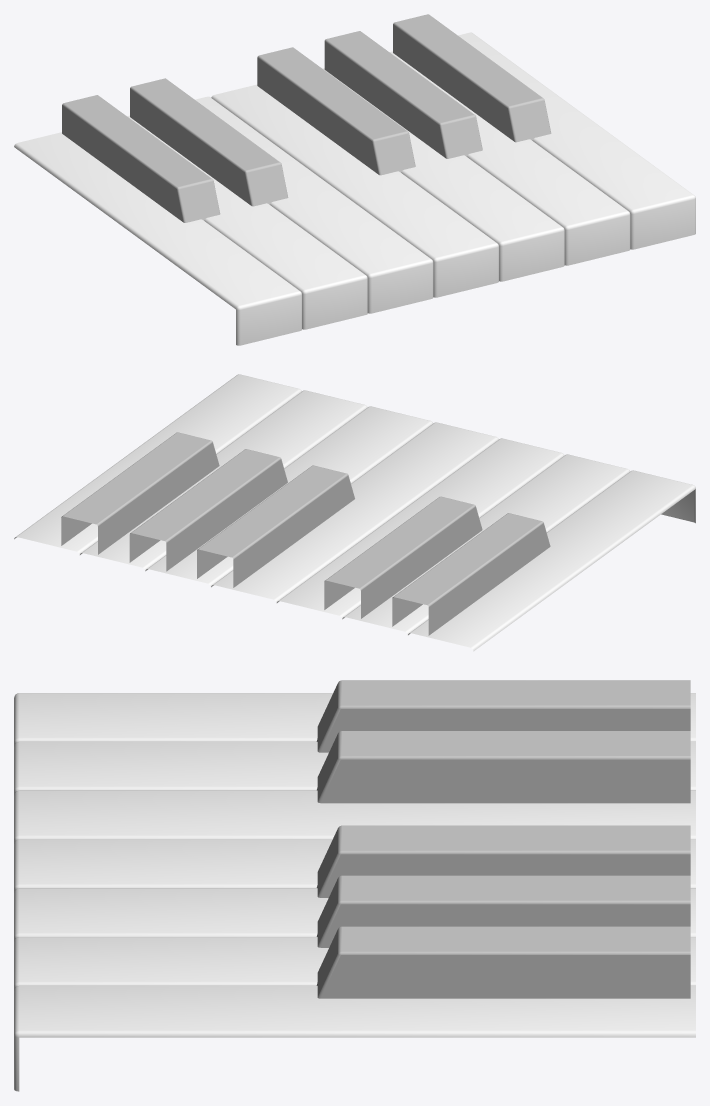
File: PianoKeys.fbx
3 views of the same model, one above another, from view 1: azimuth 30°, elevation 25°; view 2: azimuth 150°, elevation 25°; view 3: azimuth 270°, elevation 25° (orthographic). The views are drawn at different scales.
Parts seen in each view (by area): view 1: PianoKeys; view 2: PianoKeys; view 3: PianoKeys.
Boxes of the visible parts, box(x1,y1,x2,y2) form: PianoKeys: box(14, 14, 695, 345); PianoKeys: box(14, 374, 695, 651); PianoKeys: box(14, 680, 695, 1091).
Size of the model in its own units: 29.78 by 4.27 by 25.13.
